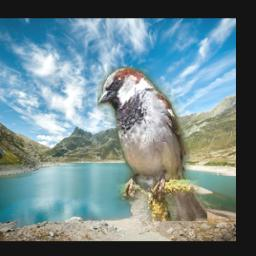Sparrow: (98, 66, 208, 221)
